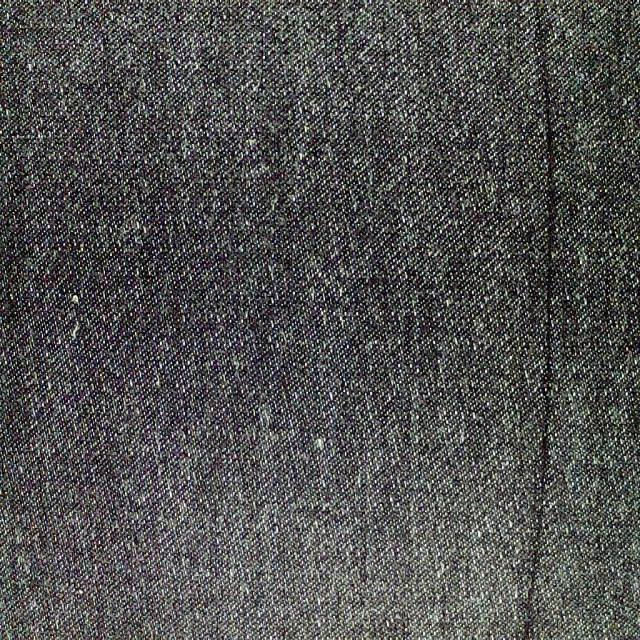defect: (517, 0, 563, 640)
